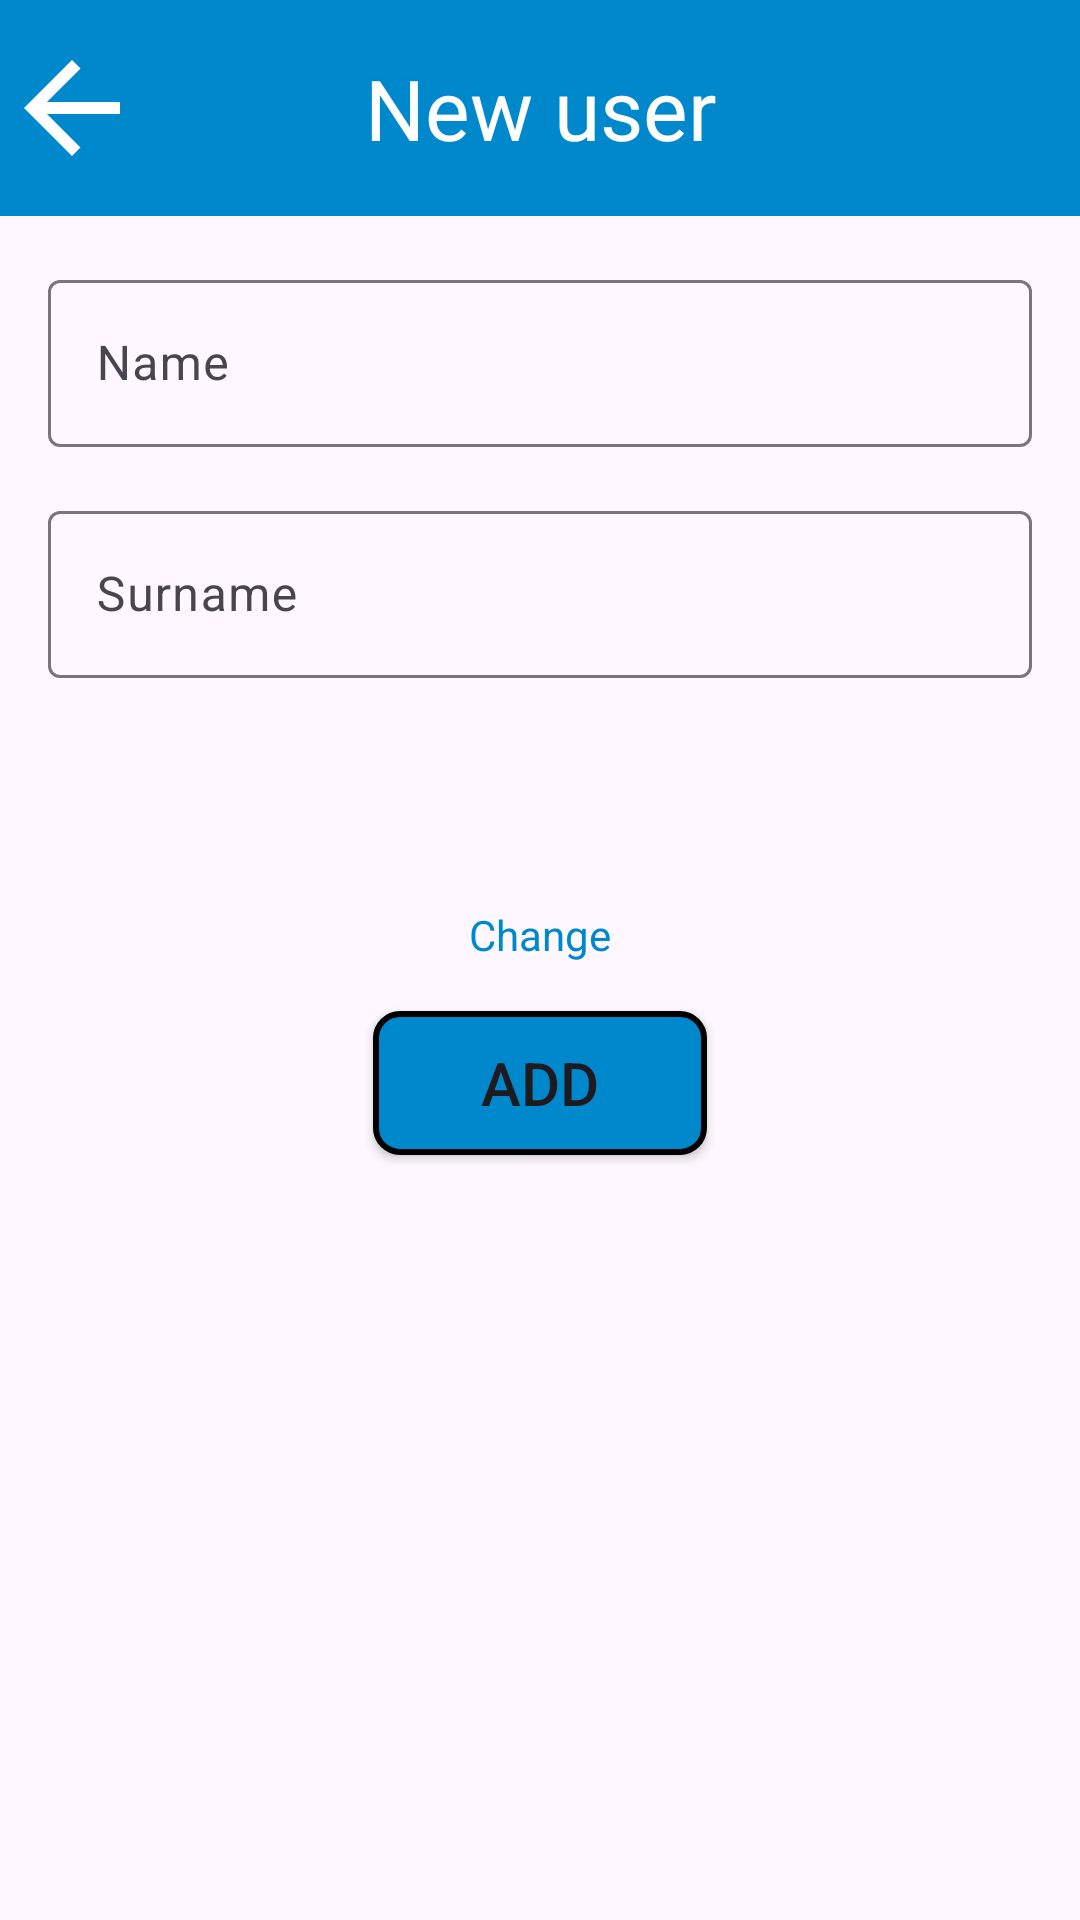

Where icons sit on this 1080px x 1920px app screen, as (x1, y1, x2, y2):
back: (24, 60, 120, 156)
